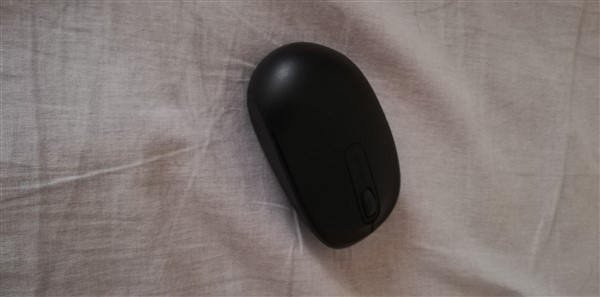mouse: (243, 33, 416, 260)
